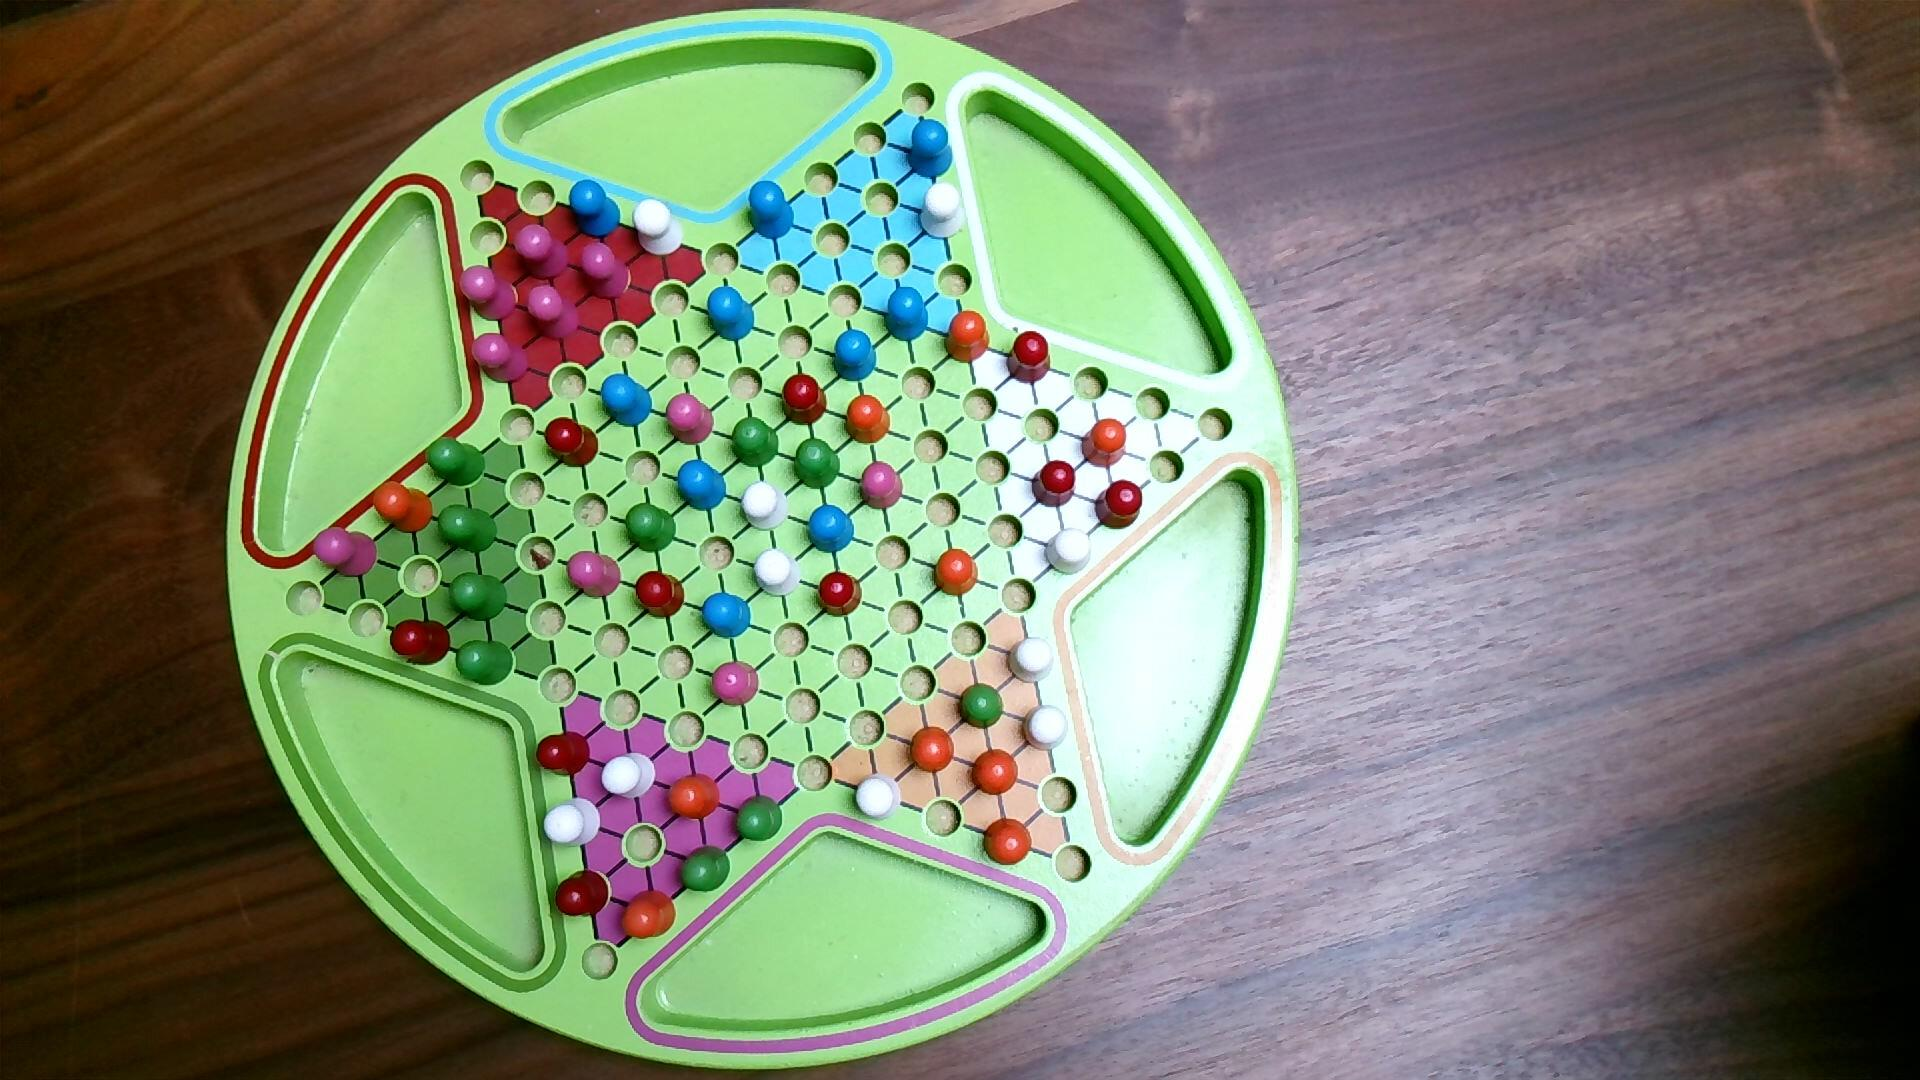B: (567, 178, 624, 241), (905, 117, 956, 181), (599, 372, 654, 430), (746, 179, 796, 243), (676, 458, 729, 514), (705, 286, 756, 344), (804, 502, 856, 556), (884, 286, 930, 345), (699, 591, 753, 641), (831, 328, 878, 384)
G: (436, 502, 500, 556), (423, 435, 488, 488), (446, 571, 509, 624), (454, 640, 517, 688), (676, 844, 735, 895), (624, 502, 679, 555), (793, 436, 843, 491), (731, 415, 781, 469), (732, 793, 785, 843), (956, 680, 1006, 732)
O: (371, 480, 436, 535), (618, 887, 679, 942), (665, 771, 723, 822), (942, 309, 992, 367), (843, 393, 893, 447), (1080, 417, 1129, 471), (971, 746, 1021, 798), (931, 547, 981, 599), (982, 818, 1034, 866), (909, 725, 956, 775)
R: (390, 617, 454, 669), (543, 415, 603, 469), (553, 868, 613, 920), (535, 731, 593, 779), (633, 570, 687, 621), (781, 372, 829, 429), (1095, 477, 1145, 531), (1006, 330, 1054, 386), (814, 568, 865, 618), (1031, 462, 1077, 510)
R2: (310, 526, 380, 580), (458, 262, 520, 323), (512, 223, 572, 282), (578, 240, 632, 303), (525, 284, 582, 342), (471, 331, 531, 385), (564, 549, 622, 601), (665, 392, 716, 448), (708, 659, 762, 708), (857, 459, 906, 512)
W: (632, 196, 686, 258), (542, 796, 603, 851), (918, 181, 968, 243), (738, 479, 793, 534), (600, 752, 658, 800), (752, 547, 804, 600), (853, 771, 905, 824), (1005, 636, 1058, 686), (1043, 526, 1093, 578), (1021, 704, 1071, 754)
